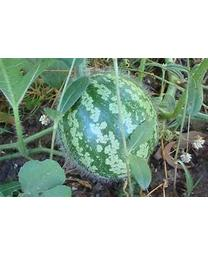watermelon: (54, 73, 158, 179)
